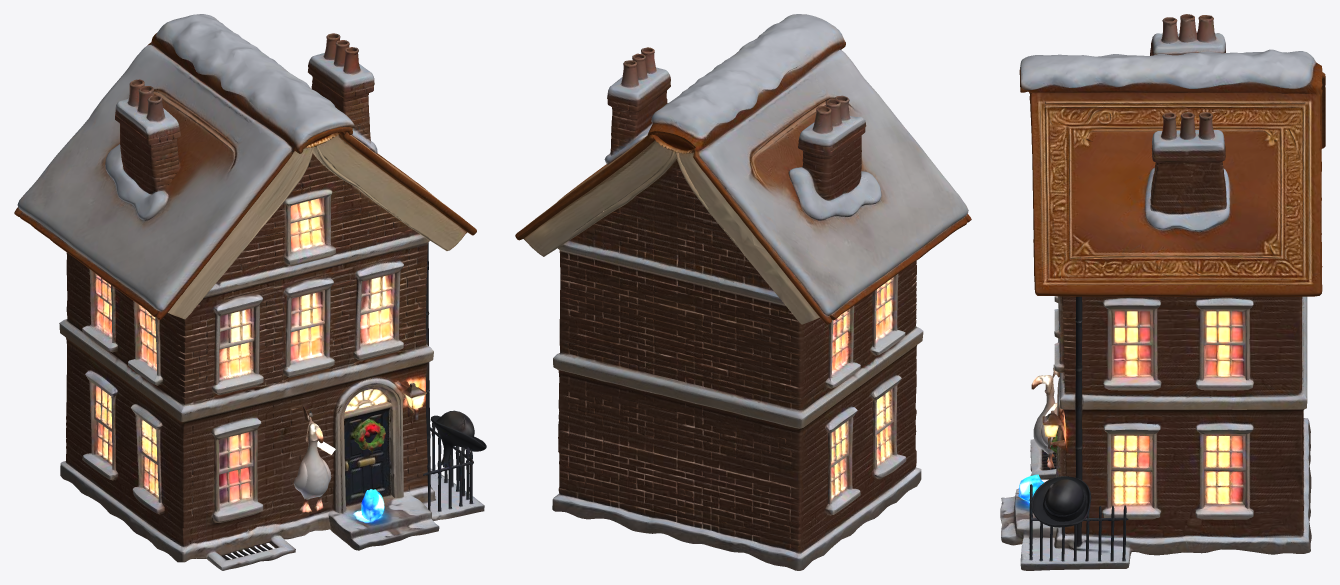
File: blue-carbuncle.glb
3 renders of one model, left to right at view 1: azimuth 30°, elevation 25°; view 2: azimuth 150°, elevation 25°; view 3: azimuth 270°, elevation 25°, orthographic.
Visible parts, largest first — view 1: model; view 2: model; view 3: model.
Boxes of the visible parts, <box> form: model: <box>14,14,486,570</box>; model: <box>515,14,971,570</box>; model: <box>1000,14,1325,570</box>.
Size of the model in its own units: 1.52 by 1.9 by 1.26.
1 material, 1 textured.
